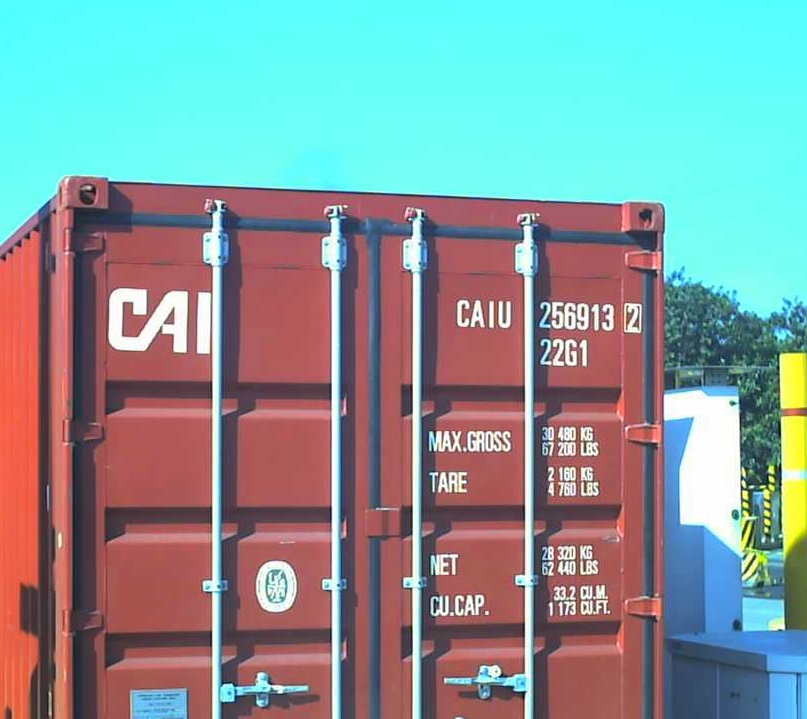container_door: (60, 170, 666, 719)
